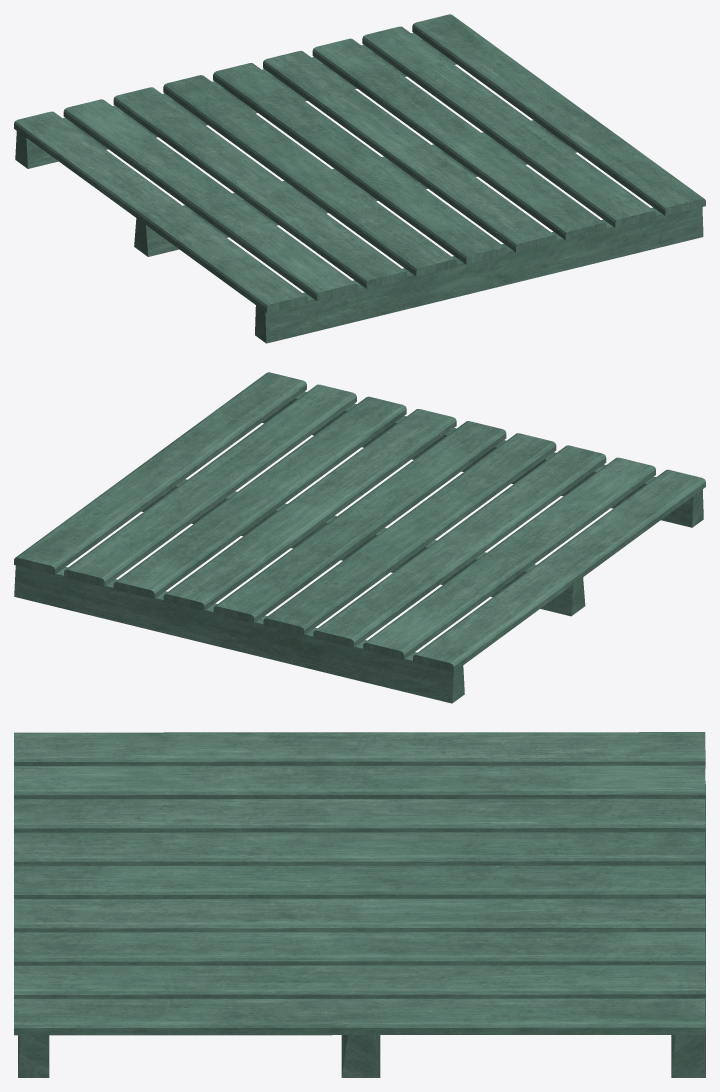
The model's file is ESTIBA.fbx.
The picture shows the model from 3 angles, top to bottom: view 1: azimuth 30°, elevation 25°; view 2: azimuth 150°, elevation 25°; view 3: azimuth 270°, elevation 25°; orthographic projection. The views are drawn at different scales.
Parts seen in each view (by area): view 1: Tablas, base tablas; view 2: Tablas, base tablas; view 3: Tablas, base tablas.
Part boxes in pixels (x1=…): Tablas: x1=14, y1=14, x2=705, y2=313; base tablas: x1=15, y1=32, x2=703, y2=343; Tablas: x1=14, y1=372, x2=705, y2=672; base tablas: x1=14, y1=391, x2=703, y2=703; Tablas: x1=14, y1=732, x2=705, y2=1035; base tablas: x1=18, y1=781, x2=705, y2=1077.
Size of the model in its own units: 25.22 by 2.18 by 25.09.
1 material, 1 textured.
